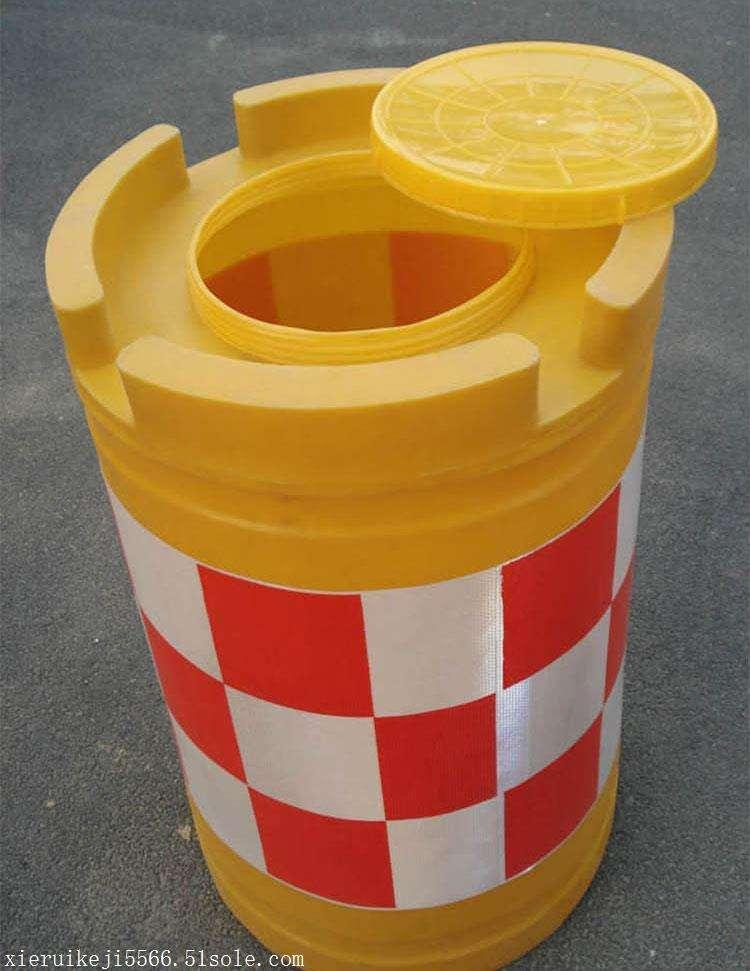sign: (44, 53, 706, 971)
